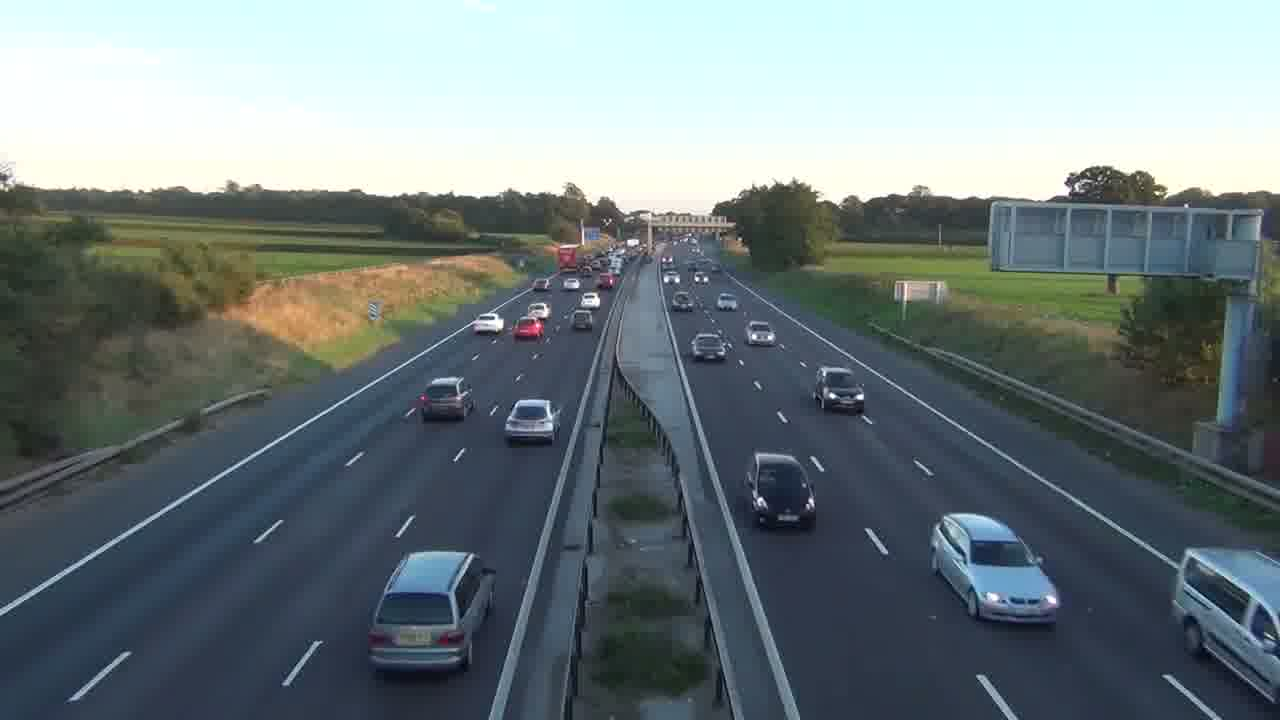car: (366, 549, 497, 677), (929, 511, 1061, 626), (741, 451, 817, 530), (504, 398, 561, 445), (813, 366, 866, 414), (420, 376, 475, 422), (689, 332, 729, 362), (745, 321, 777, 347), (471, 310, 504, 334), (512, 318, 545, 341), (716, 292, 739, 310)
truck: (1170, 545, 1279, 705)
